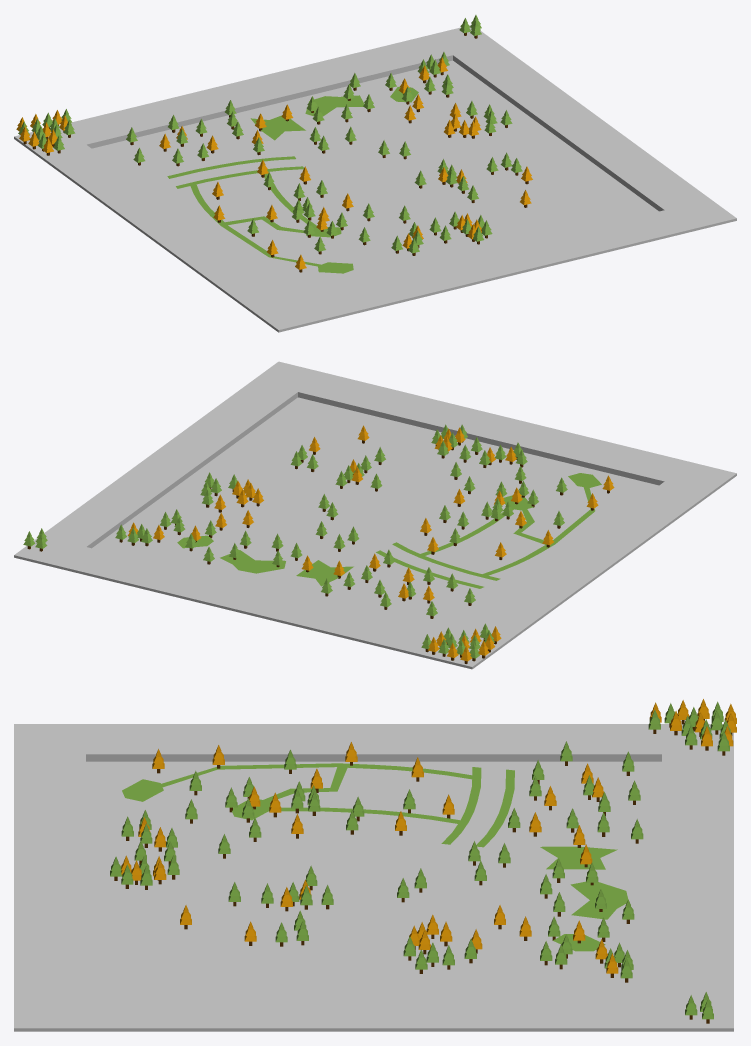
Rendered from orangerie.gltf.
The picture shows the model from 3 angles, top to bottom: view 1: azimuth 30°, elevation 25°; view 2: azimuth 150°, elevation 25°; view 3: azimuth 270°, elevation 25°; orthographic projection. The views are drawn at different scales.
Visible parts, largest first — view 1: bordure, Plane.017, Plane.018, Plane.015; view 2: bordure, Plane.017, Plane.018, Plane.015; view 3: bordure, Plane.017, Plane.018, Plane.015, Plane.011, Plane.010, Plane.016, Plane.014.
Part boxes in pixels (x1,y1,x2,y2): bordure: (14, 25, 736, 332); Plane.017: (190, 184, 320, 266); Plane.018: (305, 95, 364, 116); Plane.015: (250, 115, 305, 140); bordure: (14, 361, 736, 669); Plane.017: (482, 487, 595, 575); Plane.018: (220, 550, 285, 573); Plane.015: (296, 560, 353, 586); bordure: (14, 724, 733, 1031); Plane.017: (161, 763, 478, 801); Plane.018: (570, 881, 628, 919); Plane.015: (540, 846, 617, 869); Plane.011: (476, 769, 514, 847); Plane.010: (441, 767, 481, 844); Plane.016: (281, 807, 462, 824); Plane.014: (122, 779, 163, 801).
Size of the model in its own units: 4.05 by 0.2012 by 4.03.
